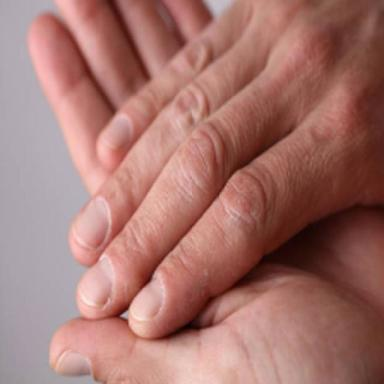normal skin: (29, 0, 384, 384)
